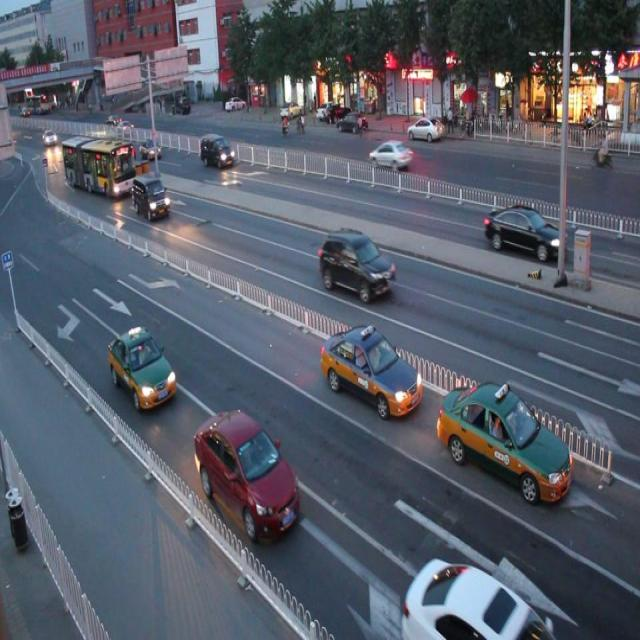car: (438, 376, 572, 503), (400, 552, 560, 640), (194, 408, 299, 541), (320, 324, 422, 418), (108, 327, 176, 413), (318, 228, 395, 301), (482, 201, 563, 262), (368, 140, 413, 172)
truck: (133, 174, 171, 220), (199, 132, 235, 167)
